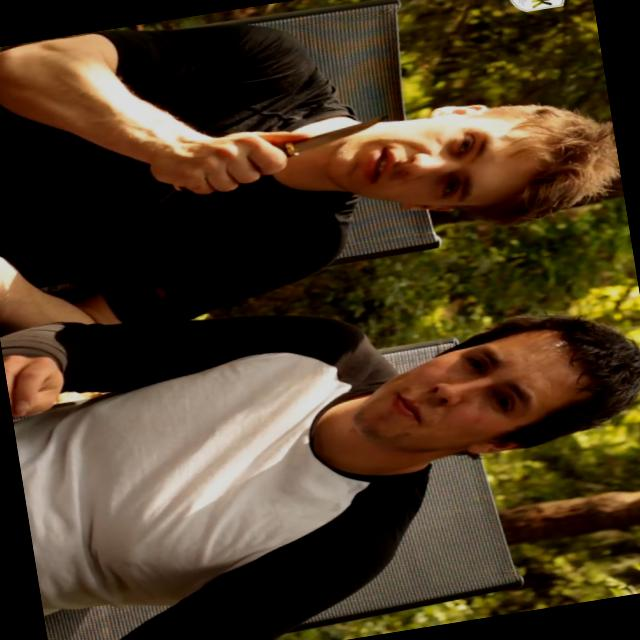knife: (206, 100, 408, 198)
